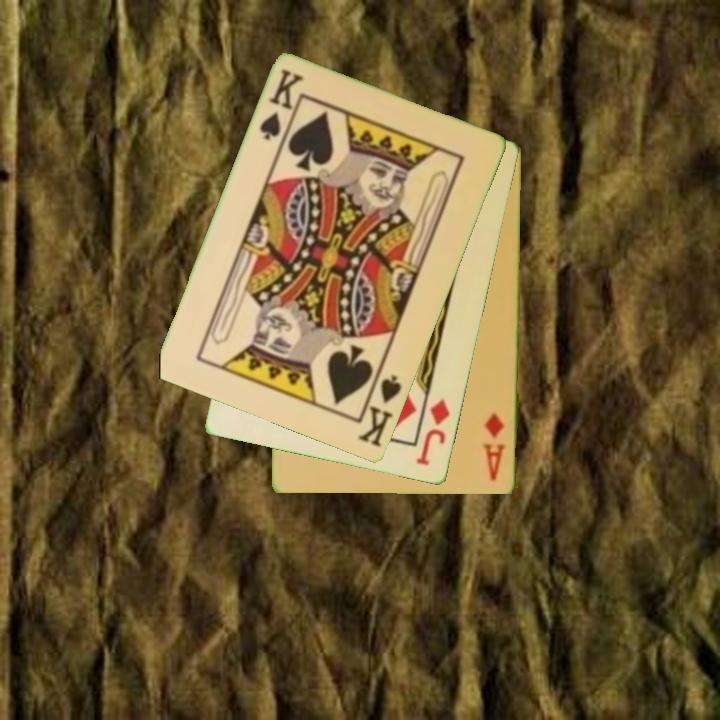Ad: (481, 410, 509, 485)
Jd: (413, 395, 453, 469)
Ks: (355, 365, 405, 451), (256, 66, 307, 144)
